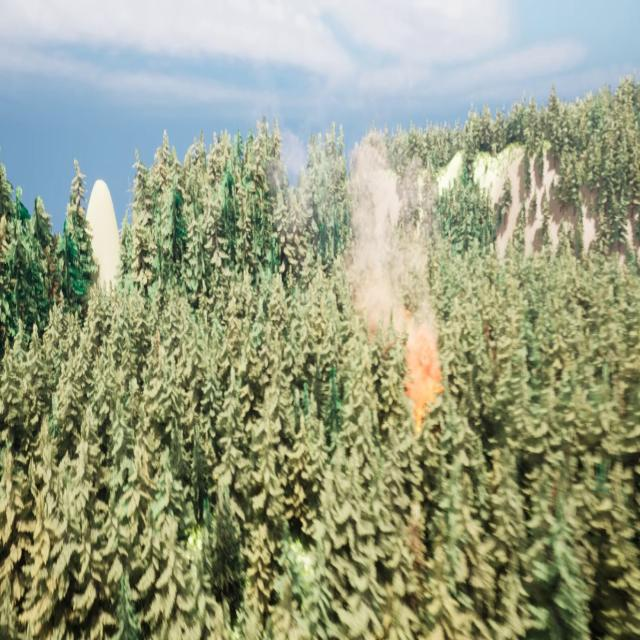smoke: (349, 125, 442, 423)
